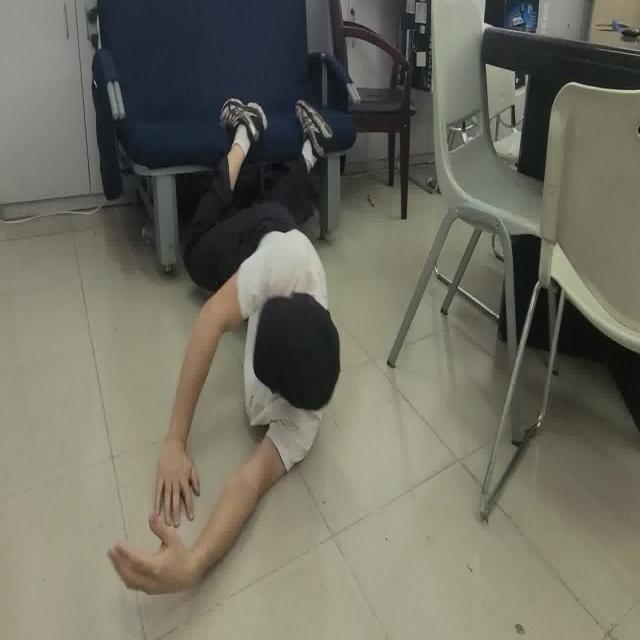Fall-Detected: (104, 85, 343, 600)
